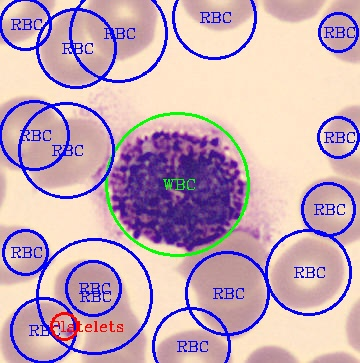RBC: (177, 226, 268, 302), (37, 7, 116, 87), (27, 115, 109, 191), (269, 235, 347, 312), (232, 143, 294, 239), (52, 257, 130, 325), (0, 298, 81, 361), (195, 275, 268, 340), (84, 0, 159, 61), (0, 94, 58, 171), (81, 296, 148, 361), (297, 175, 358, 246), (0, 222, 55, 286), (151, 327, 235, 362), (321, 102, 358, 180), (319, 0, 359, 65), (1, 0, 57, 46)
WBC: (107, 117, 248, 250)
